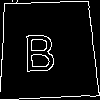B: (23, 24, 57, 72)
